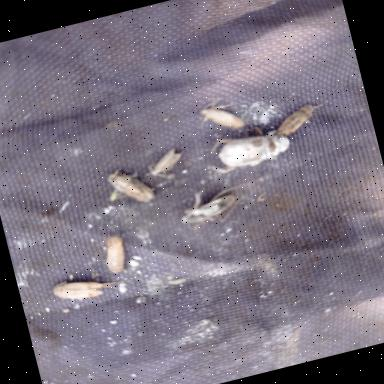pbw: (49, 266, 129, 310), (177, 186, 247, 230), (266, 97, 330, 142), (104, 164, 156, 210), (202, 96, 247, 138), (146, 146, 192, 178), (102, 231, 133, 278)
